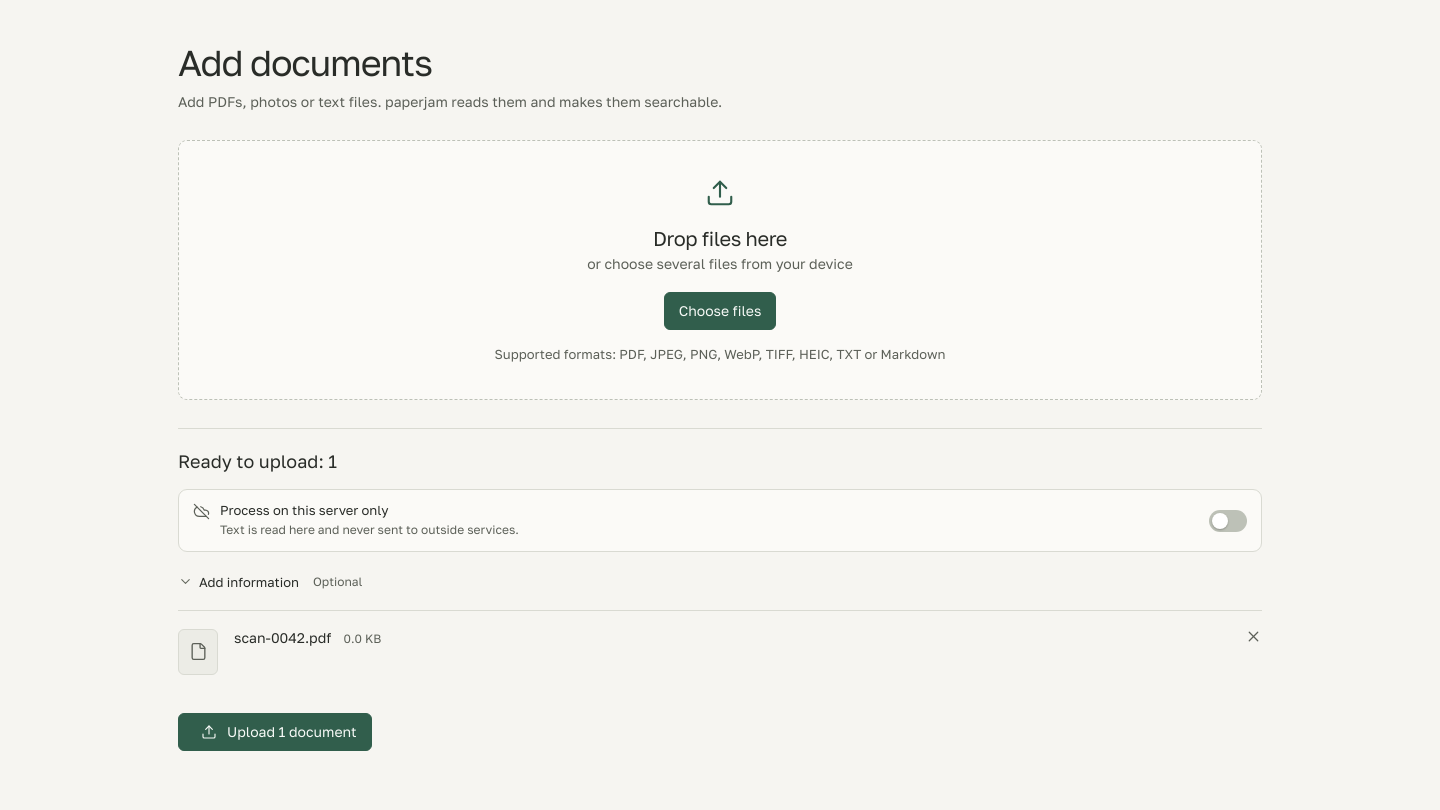
Test case: UploadPage › shows the extracted title as the row name with the file name beneath, and labels the link with it
This screenshot has width=1440, height=810.
Earlier steps of the test are not shown.
Click the button with class "upload-start" at (275, 732), box [178,713,372,751]
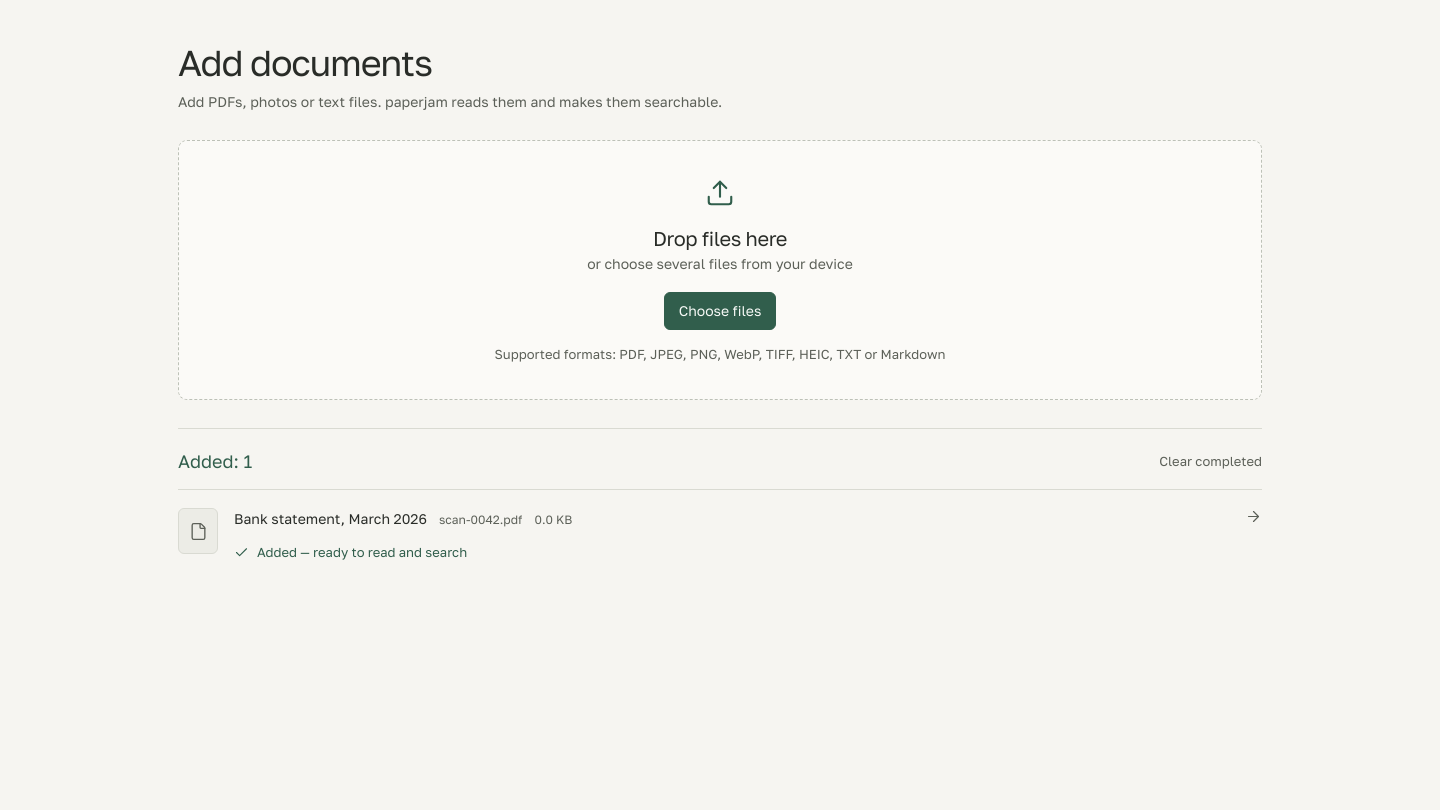
Check: the text with class "upload-file-name" reads "scan-0042.pdf", box [439,512,522,527]
Check: the text "Bank statement, March 2026" is shown, box [234,510,427,527]
Check: the number of links with class "upload-open" is 1, box [1244,508,1262,525]
